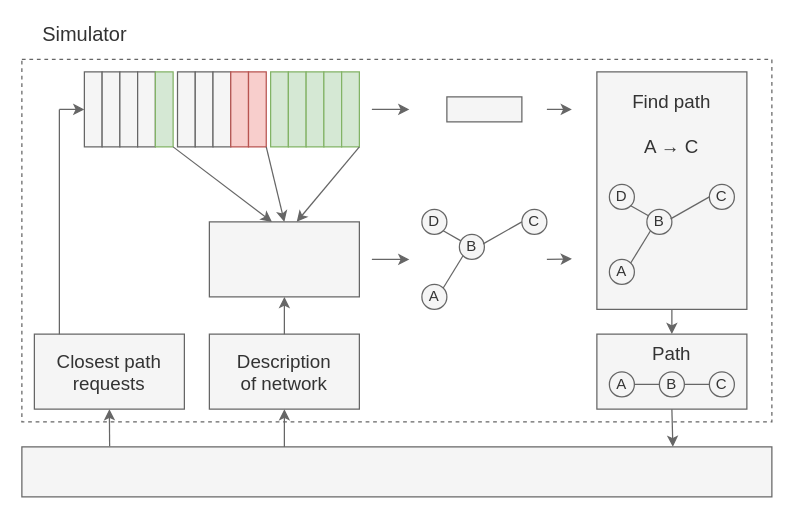
Some shapes in this 794 by 519 pixel diagram are drawn without their labels. The centre of each missing label's shape, as x and y in pixels:
A → C: (x=484, y=109)
Generate graph: (x=283, y=259)
RTI: (x=396, y=471)
